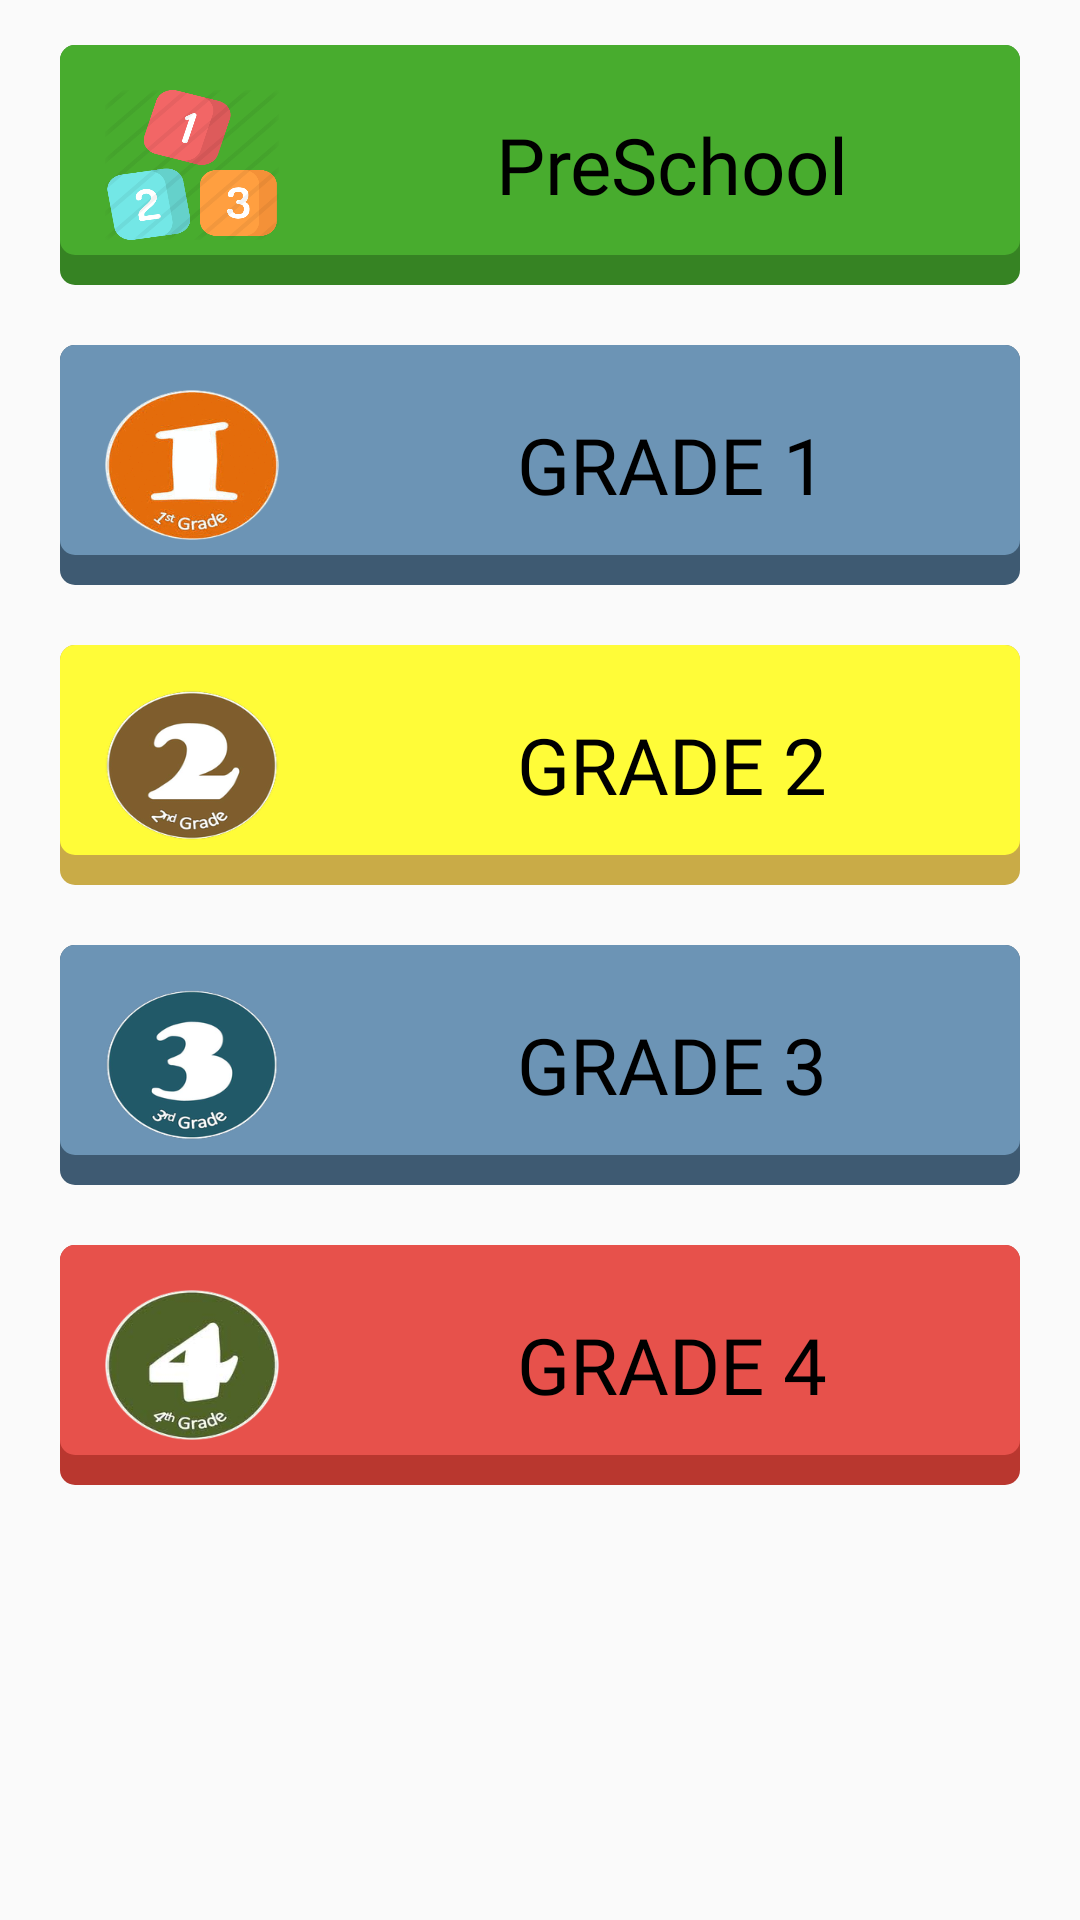

Where icons sit on this 1080 x 1920 app screen, as (x1, y1, x2, y2):
pre: (107, 90, 277, 240)
